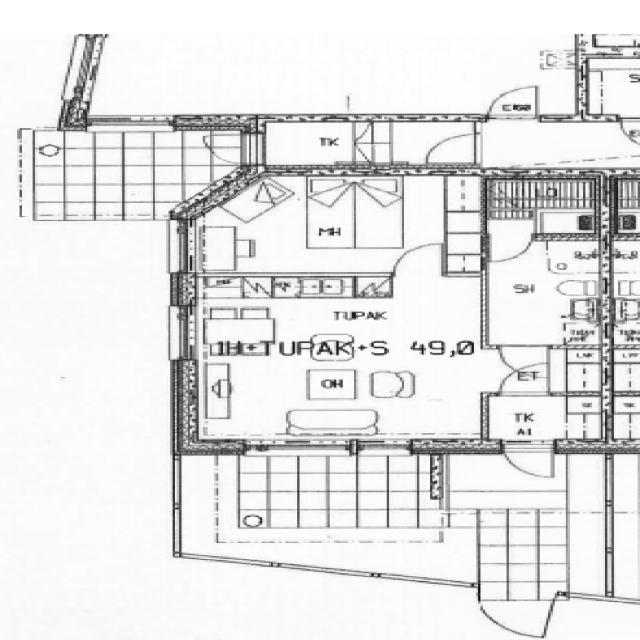door: (497, 440, 559, 482), (417, 130, 483, 168), (480, 84, 541, 122), (495, 359, 552, 399), (388, 241, 447, 279), (482, 232, 535, 266), (199, 134, 252, 168), (616, 115, 640, 148)
window: (160, 300, 203, 368), (163, 218, 203, 279), (80, 112, 180, 136), (241, 438, 352, 456), (350, 438, 418, 456)
zone: (189, 288, 487, 442), (198, 174, 454, 278), (482, 237, 605, 348), (482, 174, 602, 233), (249, 120, 380, 174), (481, 394, 606, 446), (582, 55, 640, 122), (546, 599, 640, 639), (609, 175, 640, 236)
